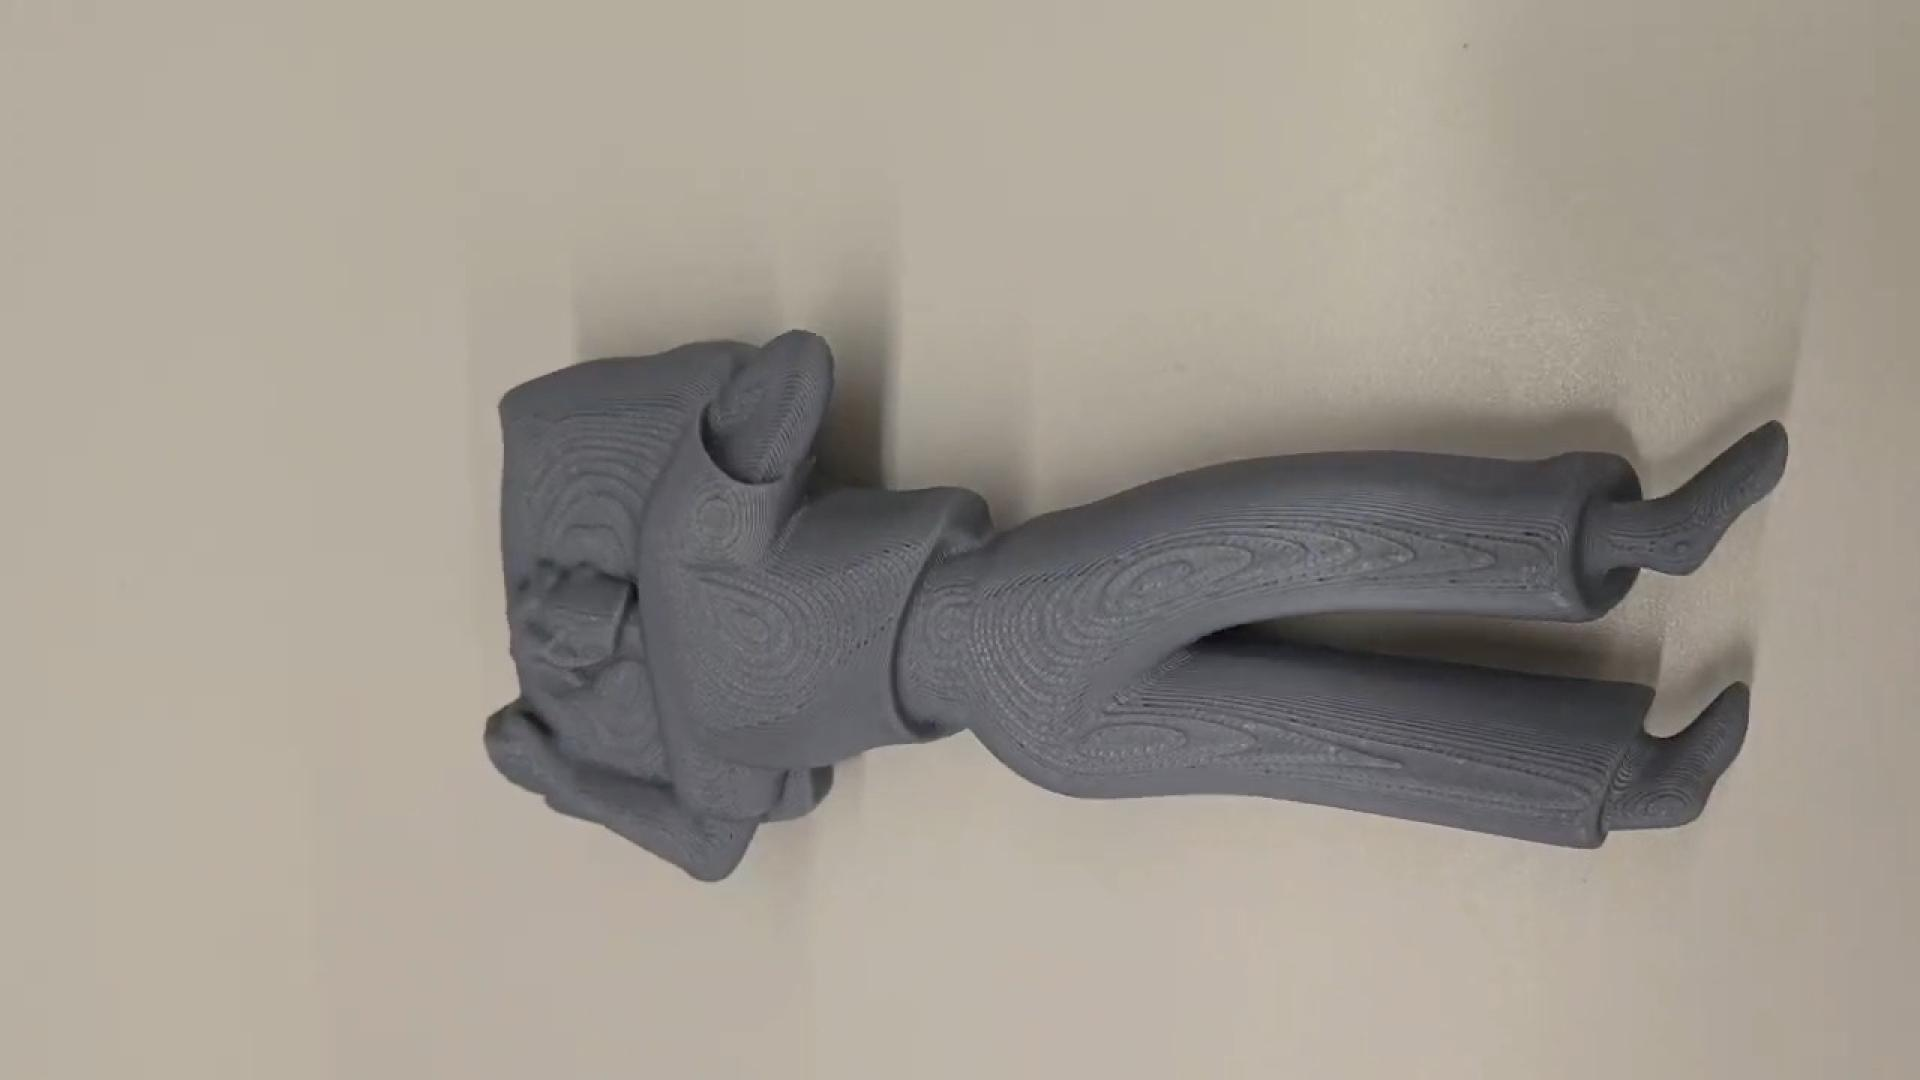Bad-style: (471, 323, 1797, 895)
